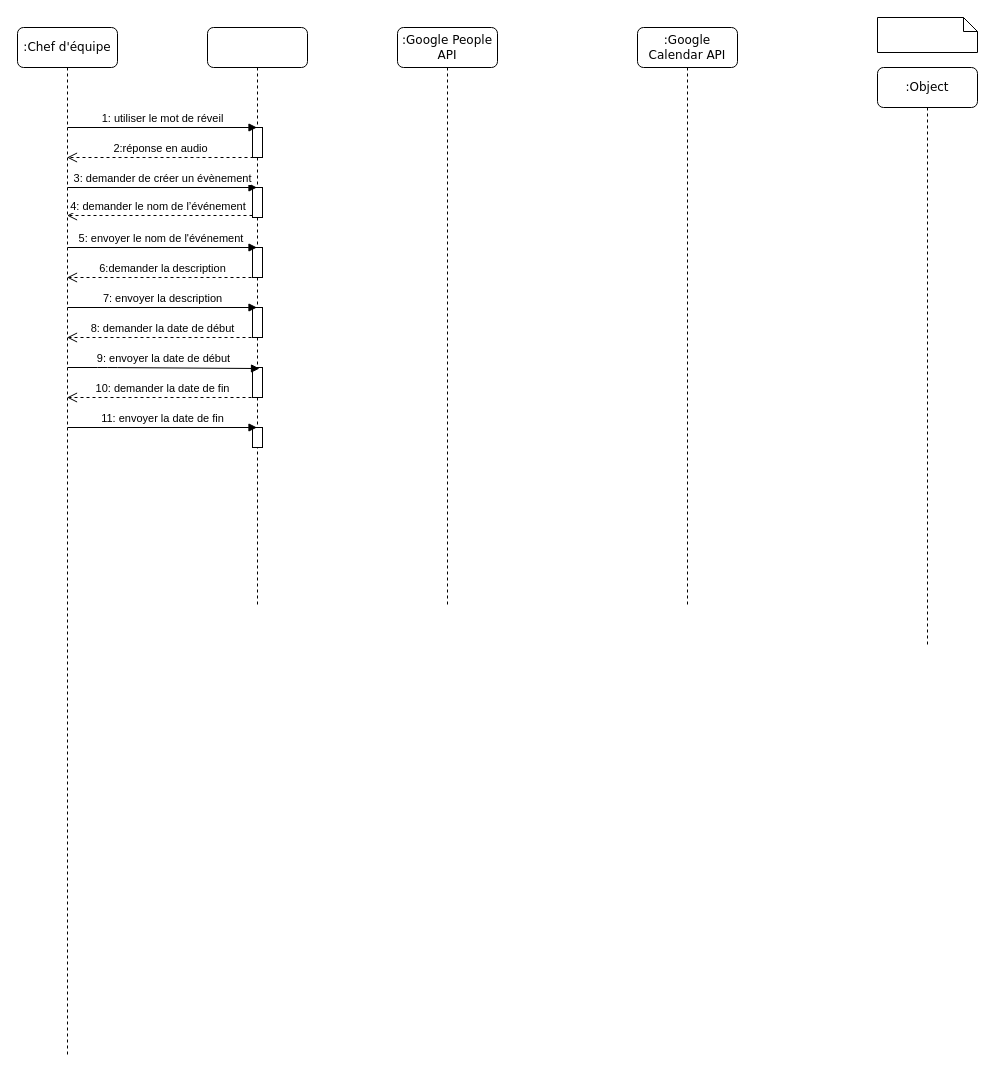
The diagram is 995 pixels wide and 1075 high, and some of its shapes have lost their labels. The shapes that lost their labels are listed below. From the top down, each one's centre as x and y in pixels, then its label:
At pixel 927 34: "Note".
At pixel 257 317: ":Assistant intelligent Focus".
